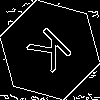K: (25, 25, 81, 81)
